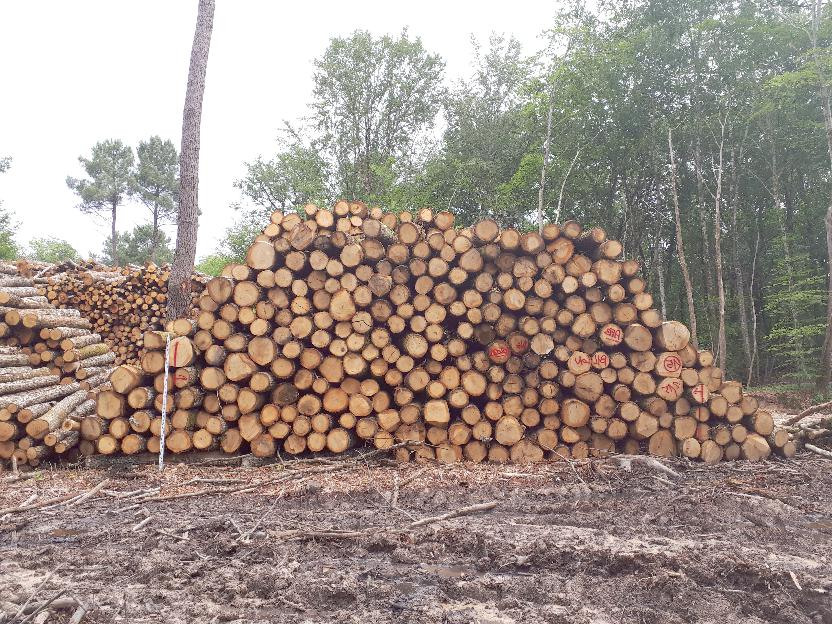etalon: (160, 332, 174, 469)
object: (222, 353, 258, 381), (493, 416, 523, 446), (660, 322, 692, 350), (329, 290, 357, 321), (95, 390, 124, 418), (574, 374, 604, 401), (625, 324, 653, 352), (206, 277, 236, 303), (168, 334, 192, 366), (512, 439, 544, 463), (247, 336, 274, 364), (110, 365, 136, 394), (248, 242, 276, 268), (650, 432, 678, 458), (655, 352, 683, 377), (658, 374, 684, 400), (744, 434, 770, 460), (633, 412, 661, 436), (396, 423, 424, 447), (700, 367, 726, 392), (288, 223, 314, 247), (598, 256, 622, 282), (272, 382, 298, 406), (564, 400, 588, 426), (217, 428, 243, 452), (590, 434, 616, 458), (322, 389, 350, 411), (546, 241, 576, 261), (463, 371, 488, 395), (248, 434, 278, 454), (630, 349, 658, 370), (426, 398, 447, 426), (236, 282, 260, 306), (672, 416, 696, 440), (474, 218, 500, 240), (720, 381, 746, 403), (128, 410, 154, 432), (166, 431, 192, 453), (438, 442, 464, 464), (26, 418, 54, 438), (321, 356, 344, 380), (200, 366, 225, 388), (328, 428, 350, 453), (566, 253, 590, 275), (574, 312, 598, 334), (489, 339, 511, 363), (406, 369, 430, 391), (596, 396, 620, 418), (448, 422, 472, 444), (349, 394, 372, 416), (356, 416, 378, 439), (614, 302, 638, 323), (141, 352, 165, 373), (399, 222, 421, 244), (388, 242, 410, 264), (299, 347, 321, 369), (620, 400, 642, 422), (466, 439, 489, 460), (284, 250, 308, 270), (370, 272, 390, 296), (589, 301, 613, 321), (496, 312, 516, 336), (531, 335, 555, 355), (678, 342, 698, 366), (238, 388, 258, 412), (372, 431, 396, 451), (437, 282, 458, 304), (570, 352, 592, 373), (472, 352, 494, 373), (272, 356, 294, 377), (79, 418, 101, 439), (700, 441, 722, 462), (289, 317, 313, 336), (240, 414, 258, 439), (522, 230, 544, 250), (340, 244, 362, 264), (461, 249, 483, 269), (498, 250, 518, 272), (601, 324, 623, 344), (408, 334, 428, 356), (249, 371, 271, 391), (122, 434, 144, 454), (622, 437, 644, 457), (424, 303, 448, 321), (354, 311, 372, 335), (192, 430, 216, 448), (151, 416, 171, 437), (678, 439, 704, 455), (283, 435, 306, 453), (500, 228, 520, 248), (309, 250, 329, 270), (429, 256, 449, 276), (390, 284, 410, 304), (372, 300, 392, 320), (635, 373, 655, 393), (608, 419, 628, 439), (545, 266, 567, 284), (504, 290, 526, 308), (290, 295, 312, 313), (274, 308, 296, 326), (194, 329, 216, 347), (206, 344, 228, 362), (344, 354, 366, 372), (442, 366, 460, 388), (739, 394, 757, 416), (379, 407, 397, 429), (514, 259, 538, 275), (99, 433, 119, 452), (758, 412, 776, 433), (463, 402, 480, 424), (363, 217, 381, 237), (564, 221, 584, 239), (452, 234, 472, 252), (362, 240, 382, 258), (417, 273, 435, 293), (560, 276, 580, 294), (254, 300, 274, 318), (482, 304, 502, 322), (511, 334, 531, 352), (447, 338, 467, 356), (504, 375, 524, 393), (426, 378, 446, 396), (130, 387, 148, 407), (156, 392, 174, 412), (261, 404, 279, 424), (172, 408, 190, 428), (472, 421, 492, 439), (714, 425, 732, 445), (774, 427, 792, 447), (307, 432, 327, 450), (416, 447, 436, 465), (305, 271, 327, 287), (626, 276, 648, 292), (356, 284, 372, 306), (436, 212, 455, 230), (523, 353, 541, 372), (360, 377, 379, 395), (504, 395, 522, 414), (221, 404, 240, 422), (310, 328, 330, 345), (172, 368, 192, 385), (562, 424, 582, 441), (430, 424, 450, 441), (224, 334, 245, 350), (374, 390, 390, 411), (316, 208, 334, 226), (542, 221, 560, 239), (440, 244, 458, 262), (391, 266, 409, 284), (276, 267, 294, 285), (258, 270, 276, 288), (340, 272, 358, 290), (535, 278, 553, 296), (464, 288, 482, 306), (174, 317, 192, 335), (213, 321, 231, 339), (476, 327, 494, 345), (540, 380, 558, 398), (451, 388, 469, 406), (176, 389, 194, 407), (204, 394, 222, 412), (541, 399, 559, 417), (400, 404, 418, 422), (312, 413, 330, 431), (111, 419, 129, 437), (540, 430, 558, 448), (634, 292, 654, 308), (644, 310, 664, 326), (456, 322, 476, 338), (373, 328, 389, 348), (340, 377, 360, 393), (300, 397, 320, 413), (520, 408, 540, 424), (76, 440, 96, 456), (604, 239, 622, 256), (370, 359, 388, 376), (294, 370, 312, 387), (146, 437, 164, 454), (694, 383, 713, 399), (396, 388, 412, 407), (154, 375, 174, 390), (327, 258, 345, 274), (314, 290, 330, 308), (220, 304, 238, 320), (558, 308, 576, 324), (198, 311, 214, 329), (521, 318, 539, 334), (427, 324, 443, 342), (330, 339, 348, 355), (382, 344, 400, 360), (540, 362, 558, 378), (681, 367, 699, 383), (386, 367, 402, 385), (614, 384, 632, 400), (523, 390, 541, 406), (649, 398, 667, 414), (292, 417, 310, 433), (732, 425, 750, 441), (491, 446, 509, 462), (382, 210, 396, 230), (449, 268, 469, 282), (568, 296, 588, 310), (524, 297, 544, 311), (218, 386, 238, 400), (673, 398, 693, 412), (713, 397, 727, 417), (270, 421, 290, 435), (337, 321, 353, 338), (699, 348, 715, 365), (198, 410, 214, 427), (207, 417, 224, 433), (696, 422, 712, 439), (271, 290, 290, 304), (145, 332, 164, 346), (350, 199, 366, 215), (428, 232, 444, 248), (314, 236, 330, 252), (412, 257, 428, 273), (233, 263, 249, 279), (356, 264, 372, 280), (478, 274, 494, 290), (545, 299, 561, 315), (240, 306, 256, 322), (410, 315, 426, 331), (276, 328, 292, 344), (583, 335, 599, 351), (507, 357, 523, 373), (488, 382, 504, 398), (486, 402, 502, 418), (592, 416, 608, 432), (49, 440, 65, 456), (728, 404, 743, 421), (336, 217, 354, 231), (413, 242, 431, 256), (291, 281, 309, 295), (415, 294, 433, 308), (316, 312, 334, 326), (540, 316, 558, 330), (347, 335, 365, 349), (571, 443, 589, 457), (392, 447, 410, 461), (282, 213, 302, 225), (199, 296, 219, 308), (250, 320, 270, 332), (559, 369, 574, 385), (594, 350, 608, 367), (611, 353, 625, 370), (262, 224, 280, 237), (566, 337, 584, 350), (282, 343, 300, 356), (334, 200, 350, 214), (419, 207, 435, 221), (348, 228, 364, 242), (272, 238, 288, 252), (222, 264, 238, 278), (517, 277, 533, 291), (609, 284, 625, 298), (450, 302, 466, 316), (390, 315, 404, 331), (364, 344, 380, 358), (430, 344, 444, 360), (458, 356, 472, 372), (426, 360, 442, 374), (340, 413, 356, 427), (726, 443, 742, 457), (600, 368, 620, 379), (323, 279, 341, 291), (488, 368, 506, 380), (618, 370, 636, 382), (459, 226, 474, 240), (497, 273, 512, 287), (331, 231, 347, 244), (484, 258, 497, 274), (398, 357, 414, 370), (282, 406, 298, 419), (583, 272, 597, 286), (398, 304, 412, 318), (556, 345, 570, 359), (526, 374, 540, 388), (484, 243, 500, 255), (376, 260, 392, 272), (623, 262, 639, 274), (586, 288, 602, 300), (552, 331, 568, 343), (313, 379, 329, 391), (696, 404, 708, 420), (62, 416, 74, 432), (554, 446, 570, 458), (13, 452, 29, 464), (544, 417, 560, 428), (400, 210, 414, 222), (593, 226, 605, 240), (319, 229, 333, 241), (539, 252, 551, 266), (470, 308, 482, 322), (446, 228, 456, 244), (662, 412, 672, 428), (370, 206, 382, 218), (268, 213, 286, 221), (350, 214, 362, 226), (304, 218, 316, 230), (256, 232, 272, 241), (20, 437, 32, 449), (785, 442, 797, 454), (490, 291, 502, 302), (28, 445, 36, 461), (50, 432, 58, 446), (306, 204, 318, 212)
pile: (12, 199, 796, 464)
